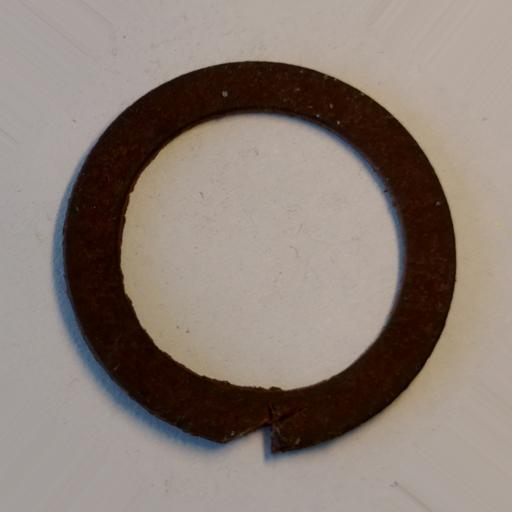defect: (222, 400, 305, 456)
